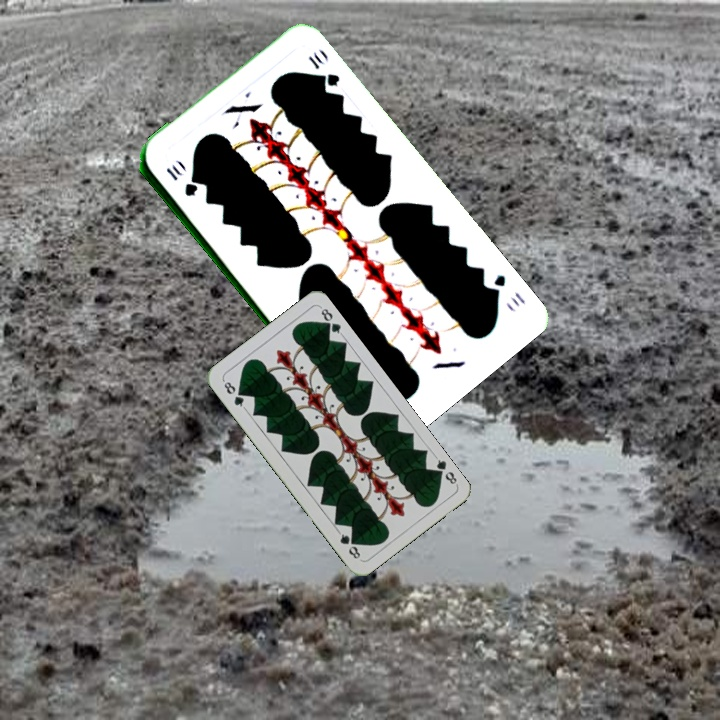G10: (484, 270, 528, 309), (161, 161, 199, 199)
G8: (429, 452, 461, 488), (219, 376, 248, 411)
